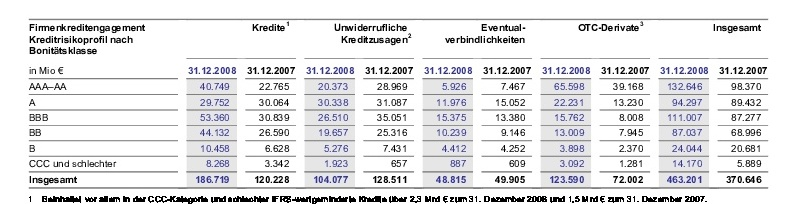table: (0, 0, 787, 204)
